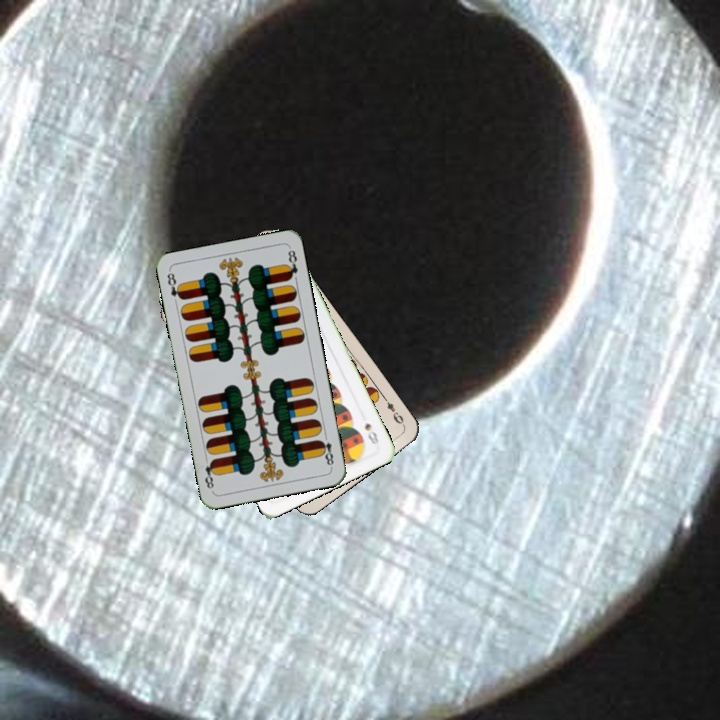E8: (316, 430, 336, 470), (163, 268, 186, 302)
E9: (380, 394, 408, 430)
S8: (360, 418, 381, 447)
